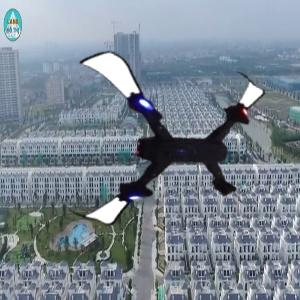drone: (62, 53, 257, 248)
